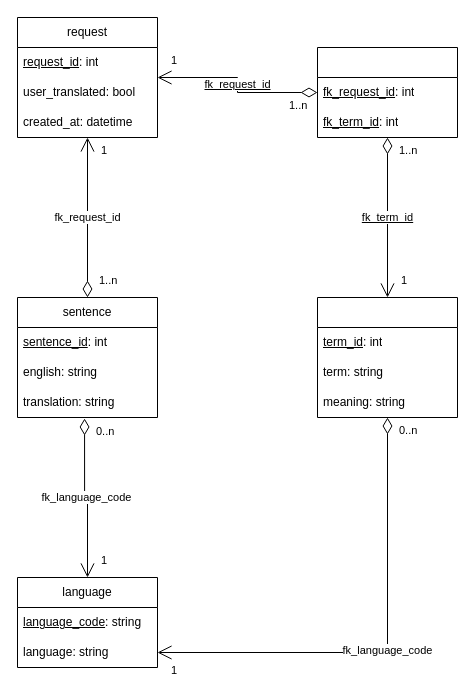
The diagram is 475 pixels wide and 695 high, and some of its shapes have lost their labels. The shapes that lost their labels are listed below. From the top down, each one's box as (x1, y1, x2, y2) in pixels, then its label:
(316, 46, 458, 138): request_vocabulary
(316, 296, 458, 418): vocabulary
